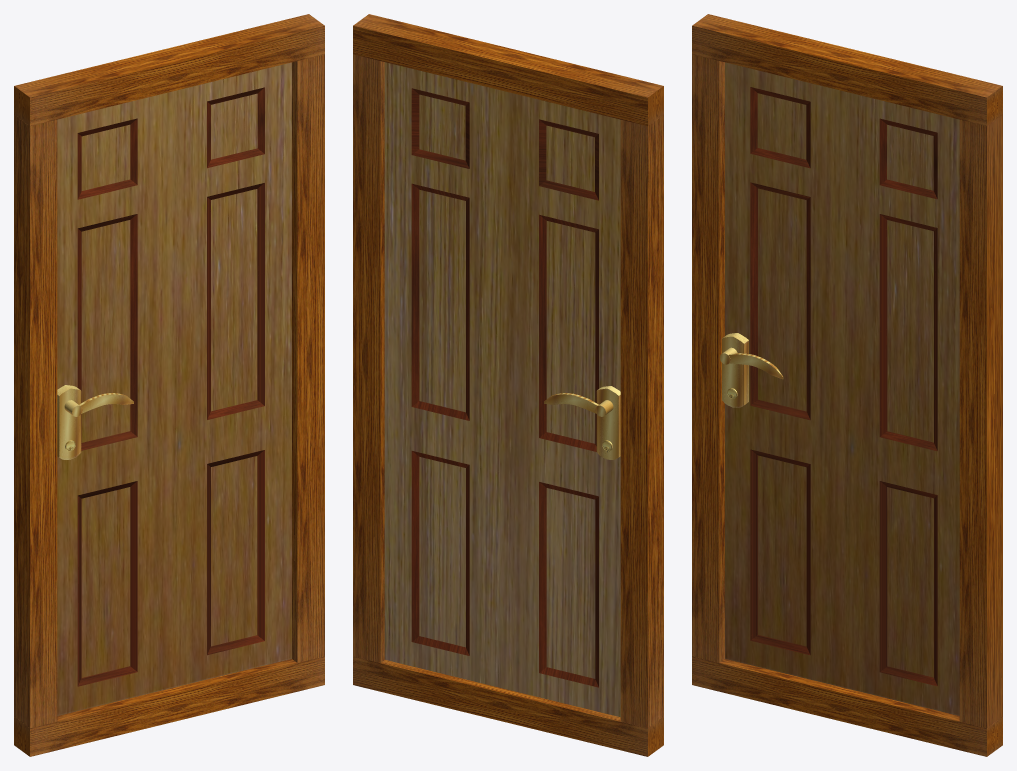
The picture shows the model from 3 angles, left to right: view 1: azimuth 30°, elevation 25°; view 2: azimuth 150°, elevation 25°; view 3: azimuth 330°, elevation 25°; orthographic projection.
Visible parts, largest first — view 1: polySurface1, pCube5_Part_9, pCube5_Part_1, pCube5_Part_10, pCube5_Part_3, pCube5_Part_7, pCube5_Part_5, pCube5_Part_2, pCube5_Part_8, pCube5_Part_6, pCube5_Part_4, Door; view 2: polySurface1, pCube5_Part_9, pCube5_Part_1, pCube5_Part_10, pCube5_Part_3, pCube5_Part_7, pCube5_Part_5, pCube5_Part_2, pCube5_Part_8, pCube5_Part_6, pCube5_Part_4, Door; view 3: polySurface1, pCube5_Part_1, pCube5_Part_9, pCube5_Part_3, pCube5_Part_10, pCube5_Part_7, pCube5_Part_5, pCube5_Part_2, pCube5_Part_8, pCube5_Part_4, pCube5_Part_6, Door.
Boxes of the visible parts, x1,y1,x2,y2 form: polySurface1: [14, 14, 324, 756]; pCube5_Part_9: [57, 523, 291, 715]; pCube5_Part_1: [57, 158, 291, 343]; pCube5_Part_10: [57, 85, 291, 238]; pCube5_Part_3: [57, 385, 206, 704]; pCube5_Part_7: [168, 253, 291, 439]; pCube5_Part_5: [57, 343, 171, 610]; pCube5_Part_2: [57, 244, 165, 399]; pCube5_Part_8: [177, 390, 257, 540]; pCube5_Part_6: [220, 420, 291, 525]; pCube5_Part_4: [197, 62, 291, 162]; Door: [57, 385, 133, 459]; polySurface1: [353, 14, 663, 756]; pCube5_Part_9: [384, 525, 620, 717]; pCube5_Part_1: [384, 158, 620, 344]; pCube5_Part_10: [384, 85, 620, 238]; pCube5_Part_3: [471, 386, 620, 706]; pCube5_Part_7: [384, 254, 508, 440]; pCube5_Part_5: [505, 344, 620, 613]; pCube5_Part_2: [511, 244, 620, 401]; pCube5_Part_8: [419, 390, 500, 542]; pCube5_Part_6: [384, 421, 456, 526]; pCube5_Part_4: [384, 62, 480, 163]; Door: [544, 386, 620, 459]; polySurface1: [692, 14, 1002, 756]; pCube5_Part_1: [725, 98, 959, 341]; pCube5_Part_9: [725, 550, 959, 715]; pCube5_Part_3: [725, 385, 878, 651]; pCube5_Part_10: [725, 62, 959, 292]; pCube5_Part_7: [840, 312, 959, 481]; pCube5_Part_5: [725, 340, 844, 562]; pCube5_Part_2: [725, 181, 838, 355]; pCube5_Part_8: [850, 393, 929, 556]; pCube5_Part_4: [870, 98, 959, 214]; pCube5_Part_6: [896, 479, 959, 579]; Door: [719, 333, 783, 407].
Bounding box in the file's own units: 8.09 × 17.28 × 1.44.
7 materials, 5 textured.
